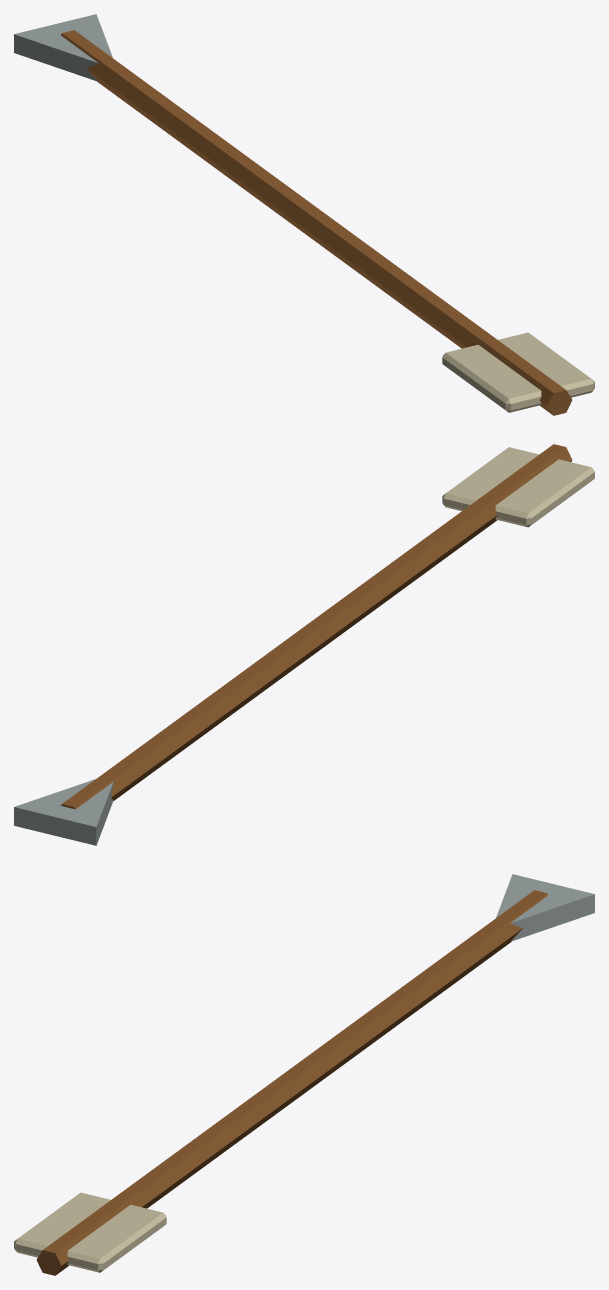
File: Arrow.glb
3 renders of one model, top to bottom at view 1: azimuth 30°, elevation 25°; view 2: azimuth 150°, elevation 25°; view 3: azimuth 330°, elevation 25°, orthographic.
Visible parts, largest first — view 1: Sculpture; view 2: Sculpture; view 3: Sculpture.
Part boxes in pixels (x1,y1,x2,y2): Sculpture: [14, 14, 594, 415]; Sculpture: [14, 444, 594, 845]; Sculpture: [14, 874, 594, 1275].
Bounding box in the file's own units: 0.1 × 0.0242 × 0.975.
